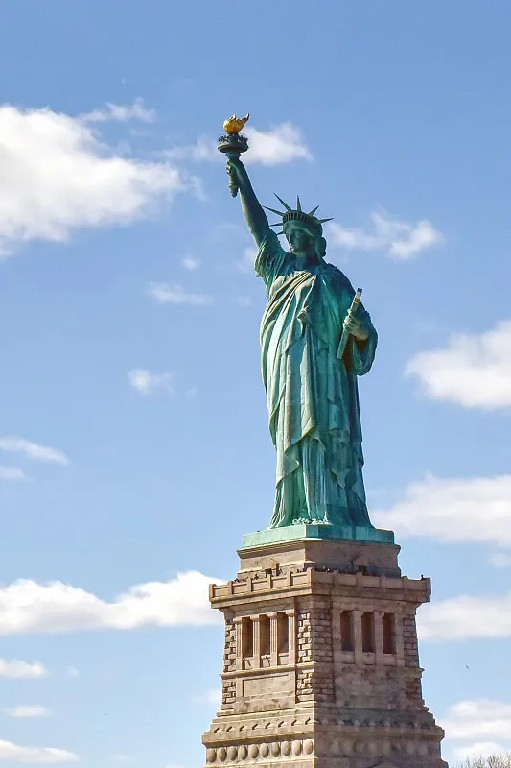SL: (201, 111, 449, 768)
